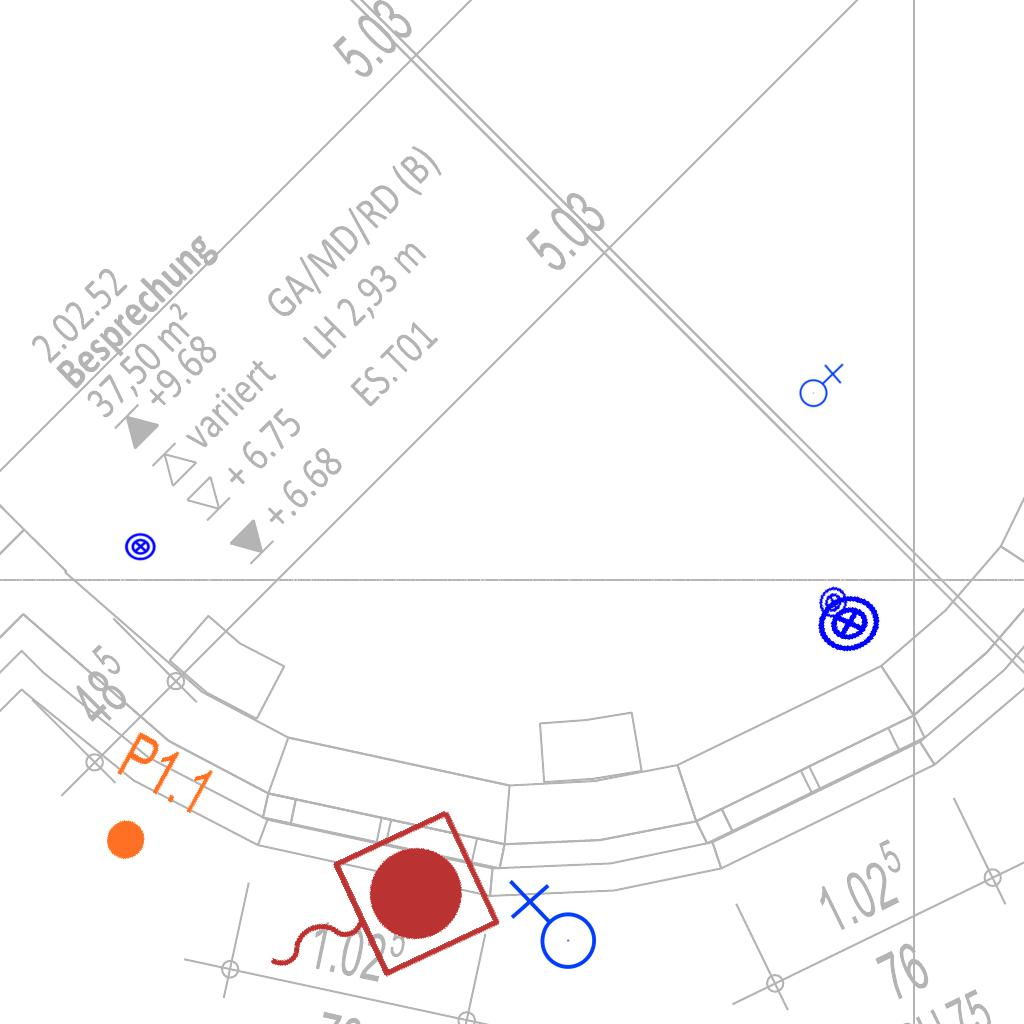Downlight_LED_Einbauleuchten_Flur: (76, 726, 221, 884)
Elektroanschluss_allgemein_230V_Geraeteanschlussdose_230V: (504, 879, 598, 978), (795, 361, 844, 408)
Taster_beleuchtet: (807, 581, 891, 665), (813, 582, 854, 623), (124, 530, 157, 563)
Zugtaster: (229, 796, 511, 1024)
